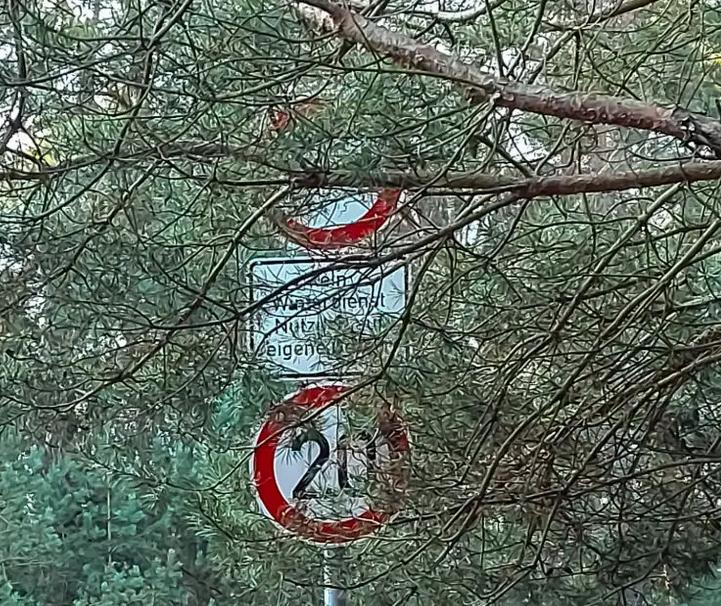obstructed_road_sign: (252, 384, 409, 545), (253, 95, 405, 251)
